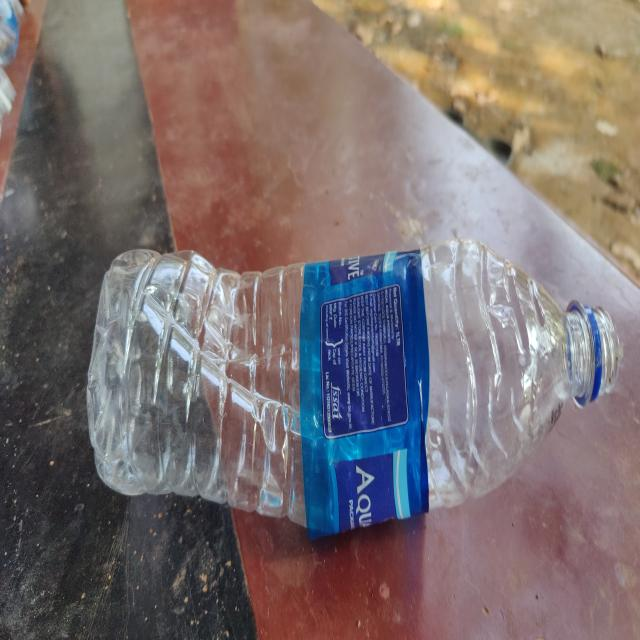plastic: (88, 238, 622, 530)
